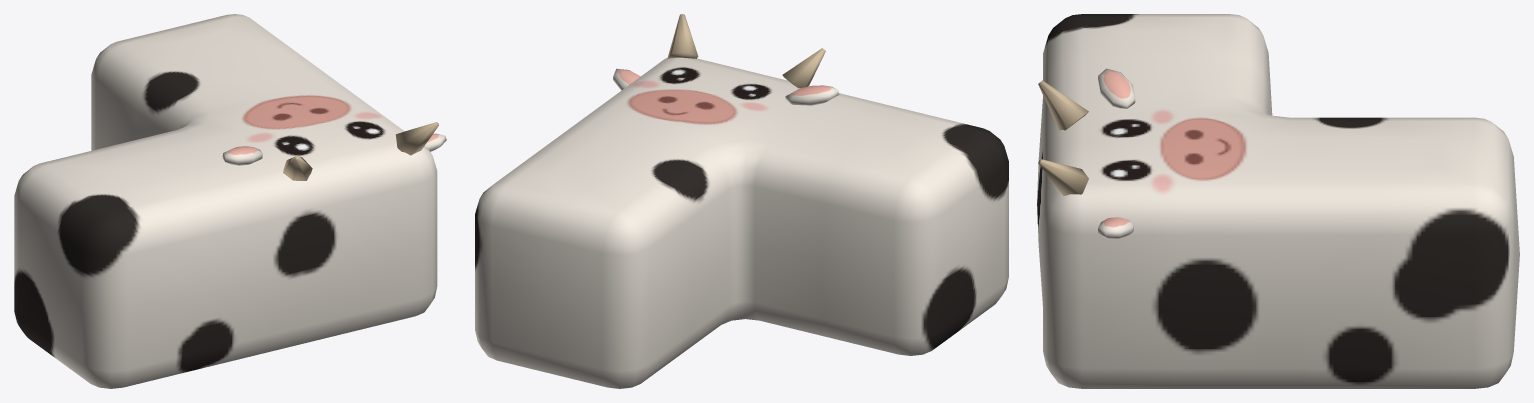
Rendered from Cow_Corner.fbx.
3 renders of one model, left to right at view 1: azimuth 30°, elevation 25°; view 2: azimuth 150°, elevation 25°; view 3: azimuth 270°, elevation 25°, orthographic. The views are drawn at different scales.
Visible parts, largest first — view 1: Cow_Corner; view 2: Cow_Corner; view 3: Cow_Corner.
Boxes of the visible parts, x1,y1,x2,y2 form: Cow_Corner: (14, 14, 446, 388); Cow_Corner: (475, 14, 1008, 388); Cow_Corner: (1037, 14, 1519, 388).
Size of the model in its own units: 2.08 by 1.02 by 1.97.
1 material, 1 textured.
